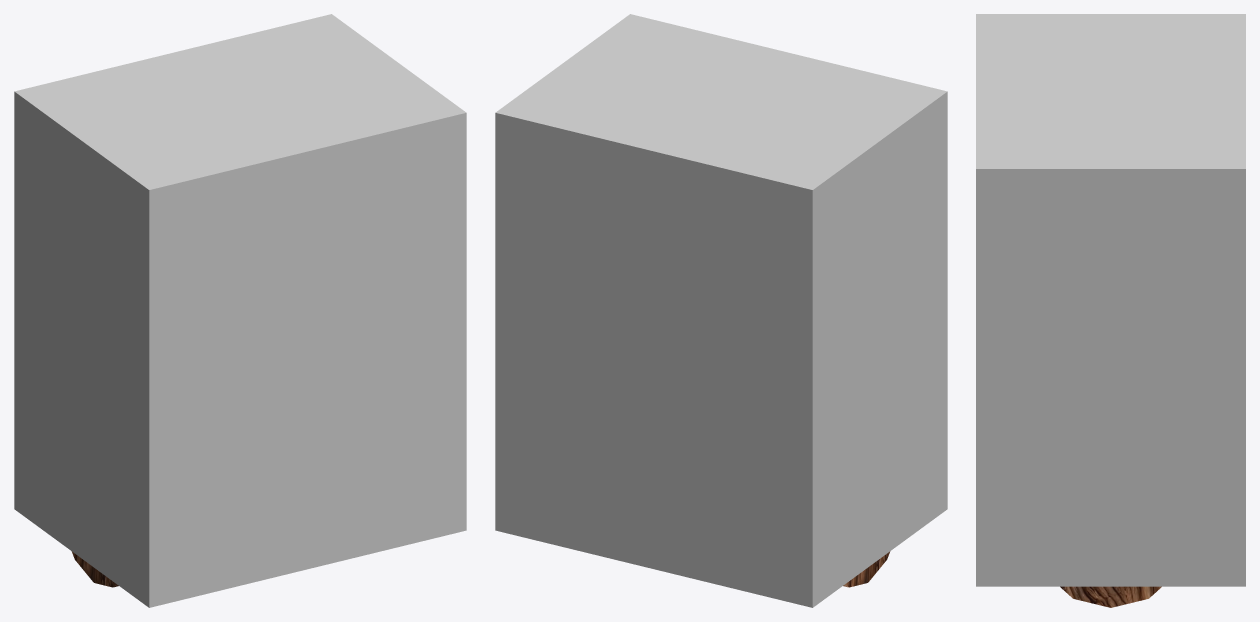
The model's file is fireBuche.glb.
The picture shows the model from 3 angles, left to right: view 1: azimuth 30°, elevation 25°; view 2: azimuth 150°, elevation 25°; view 3: azimuth 270°, elevation 25°; orthographic projection.
Visible parts, largest first — view 1: Smoke Domain; view 2: Smoke Domain; view 3: Smoke Domain, buche.
Part boxes in pixels (x1,y1,x2,y2): Smoke Domain: (14,14,466,607); Smoke Domain: (495,14,947,607); Smoke Domain: (976,14,1245,586); buche: (1060,586,1161,607).
Size of the model in its own units: 1.98 by 2.66 by 1.46.
Materials: 2 (1 with a texture image).
